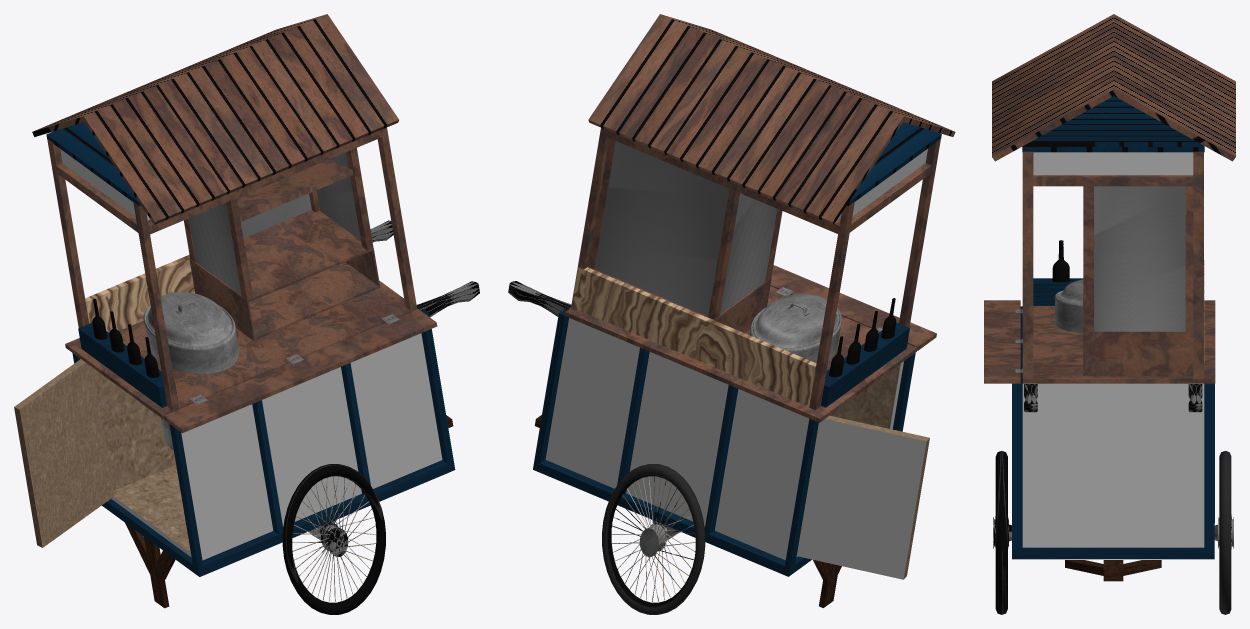
The picture shows the model from 3 angles, left to right: view 1: azimuth 30°, elevation 25°; view 2: azimuth 150°, elevation 25°; view 3: azimuth 270°, elevation 25°; orthographic projection.
Parts seen in each view (by area): view 1: main_body, roof, foodbox, stove_door, holder_pillar_1, bodybase, wood_frame, flipable_plank, Torus, edge_plank, pot_cap, glass_2 (+11 smaller); view 2: roof, main_body, stove_door, glass_wide, edge_plank, holder_pillar_1, wood_frame, bodybase, wheel_and_rim, glass_2, pot_cap, 2_wood_frame_ (+10 smaller); view 3: main_body, roof, glass_1, holder_pillar_1, wood_frame, top_plank, bodybase, foodbox, flipable_plank, foodstock_stand, wheel_and_rim, Torus (+7 smaller).
Boxes of the visible parts, bbox=[...] form: main_body: bbox=[93, 333, 442, 560]; roof: bbox=[32, 14, 398, 224]; foodbox: bbox=[189, 210, 380, 340]; stove_door: bbox=[14, 359, 114, 547]; holder_pillar_1: bbox=[47, 127, 416, 410]; bodybase: bbox=[65, 280, 417, 418]; wood_frame: bbox=[72, 309, 455, 576]; flipable_plank: bbox=[163, 309, 437, 433]; Torus: bbox=[282, 464, 385, 614]; edge_plank: bbox=[85, 254, 195, 332]; pot_cap: bbox=[146, 292, 232, 347]; glass_2: bbox=[189, 203, 241, 295]; roof: bbox=[588, 14, 955, 224]; main_body: bbox=[545, 318, 903, 560]; stove_door: bbox=[796, 415, 929, 579]; glass_wide: bbox=[594, 141, 729, 316]; edge_plank: bbox=[571, 267, 816, 406]; holder_pillar_1: bbox=[571, 127, 940, 410]; wood_frame: bbox=[533, 309, 915, 576]; bodybase: bbox=[564, 286, 917, 422]; wheel_and_rim: bbox=[602, 464, 705, 614]; glass_2: bbox=[720, 193, 777, 314]; pot_cap: bbox=[753, 293, 839, 348]; 2_wood_frame_: bbox=[617, 347, 738, 534]; main_body: bbox=[1022, 383, 1204, 547]; roof: bbox=[992, 14, 1235, 161]; glass_1: bbox=[1094, 186, 1185, 331]; holder_pillar_1: bbox=[1022, 151, 1203, 378]; wood_frame: bbox=[1012, 306, 1214, 559]; top_plank: bbox=[1022, 96, 1204, 152]; bodybase: bbox=[1022, 300, 1215, 383]; foodbox: bbox=[1083, 293, 1193, 376]; flipable_plank: bbox=[984, 300, 1020, 383]; foodstock_stand: bbox=[1083, 186, 1193, 331]; wheel_and_rim: bbox=[1219, 451, 1231, 614]; Torus: bbox=[995, 451, 1007, 614].
Size of the model in its own units: 12.19 by 15.6 by 6.54.
